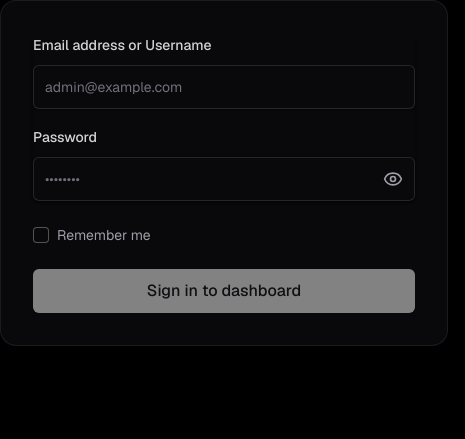
it: LoginForm › renders error on failed login
Type "a@b.c" into the field labelled "Email address or Username" at [224, 87], box x1=33 y1=65 x2=415 y2=109
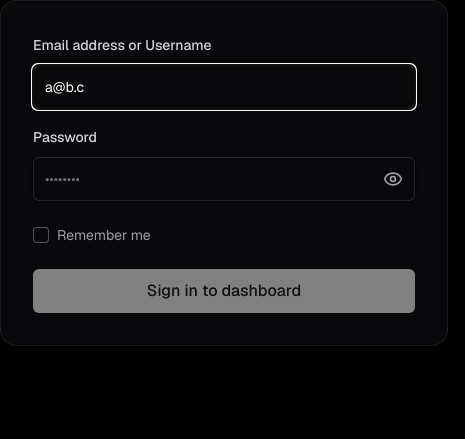
Type "wrong" into the password field labelled "Password" at [224, 179], box x1=33 y1=157 x2=415 y2=201
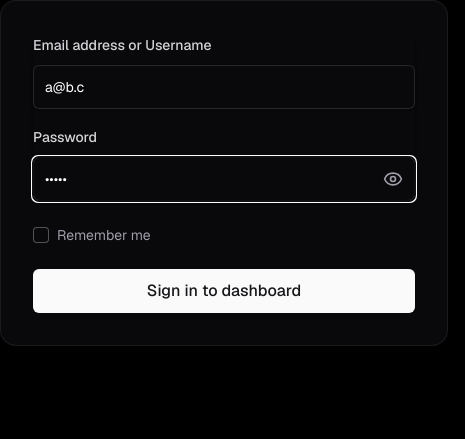
Click the button "Sign in to dashboard" at [224, 291], box x1=33 y1=269 x2=415 y2=313
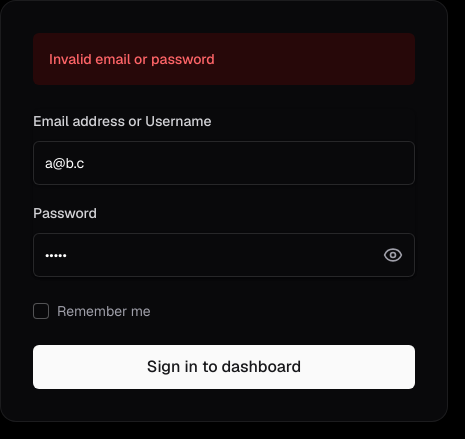
Now the text "Invalid email or password" is shown, box x1=33 y1=33 x2=415 y2=85
